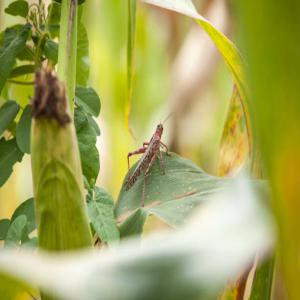locust: (111, 95, 192, 206)
